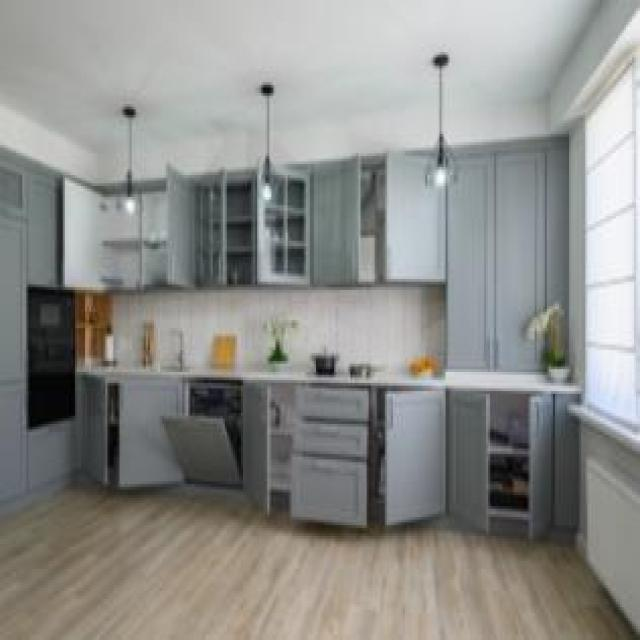dishwasher: (158, 375, 239, 487)
